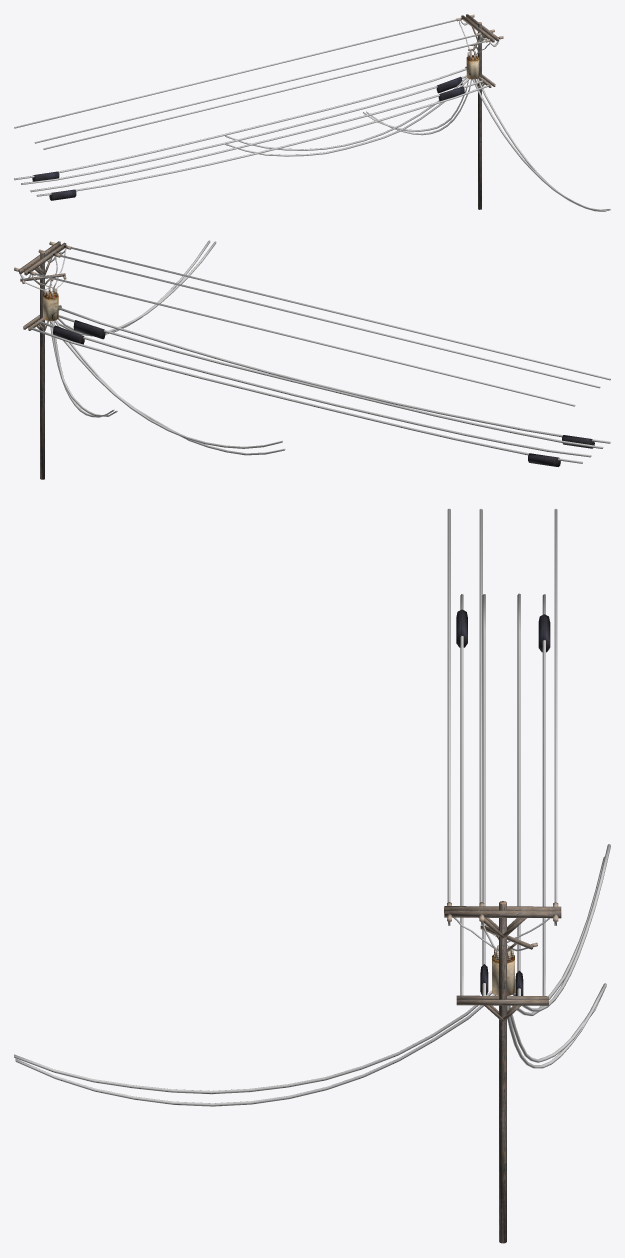
Rendered from powerlinesMain1.fbx.
3 views of the same model, one above another, from view 1: azimuth 30°, elevation 25°; view 2: azimuth 150°, elevation 25°; view 3: azimuth 270°, elevation 25° (orthographic). The views are drawn at different scales.
Parts seen in each view (by area): view 1: phonewires0, powerwires0, housewiresc0, phonetrunks0, housewiresA0, pole0, housewiresb0, crossplankA0, can0; view 2: phonewires0, powerwires0, phonetrunks0, housewiresc0, pole0, housewiresA0, housewiresb0, crossplankA0, can0; view 3: phonewires0, powerwires0, housewiresA0, pole0, crossplankA0, housewiresc0, phonetrunks0, housewiresb0.
Boxes of the visible parts, x1=… form: phonewires0: x1=14, y1=68, x2=488, y2=196; powerwires0: x1=14, y1=19, x2=486, y2=149; housewiresc0: x1=225, y1=77, x2=469, y2=156; phonetrunks0: x1=32, y1=76, x2=464, y2=200; housewiresA0: x1=472, y1=78, x2=610, y2=211; pole0: x1=478, y1=22, x2=481, y2=209; housewiresb0: x1=363, y1=79, x2=471, y2=135; crossplankA0: x1=461, y1=14, x2=498, y2=42; can0: x1=466, y1=55, x2=479, y2=79; phonewires0: x1=31, y1=307, x2=610, y2=463; powerwires0: x1=35, y1=247, x2=610, y2=406; phonetrunks0: x1=53, y1=320, x2=594, y2=466; housewiresc0: x1=49, y1=320, x2=285, y2=455; pole0: x1=40, y1=251, x2=44, y2=479; housewiresA0: x1=56, y1=240, x2=216, y2=336; housewiresb0: x1=50, y1=320, x2=117, y2=417; crossplankA0: x1=18, y1=241, x2=66, y2=275; can0: x1=43, y1=292, x2=58, y2=320; phonewires0: x1=460, y1=593, x2=545, y2=995; powerwires0: x1=447, y1=508, x2=557, y2=902; housewiresA0: x1=14, y1=990, x2=495, y2=1106; pole0: x1=499, y1=901, x2=506, y2=1243; crossplankA0: x1=444, y1=906, x2=561, y2=918; housewiresc0: x1=512, y1=844, x2=610, y2=1016; phonetrunks0: x1=456, y1=609, x2=550, y2=995; housewiresb0: x1=507, y1=983, x2=606, y2=1068.
Size of the model in its own units: 24.36 by 9.3 by 14.84.
